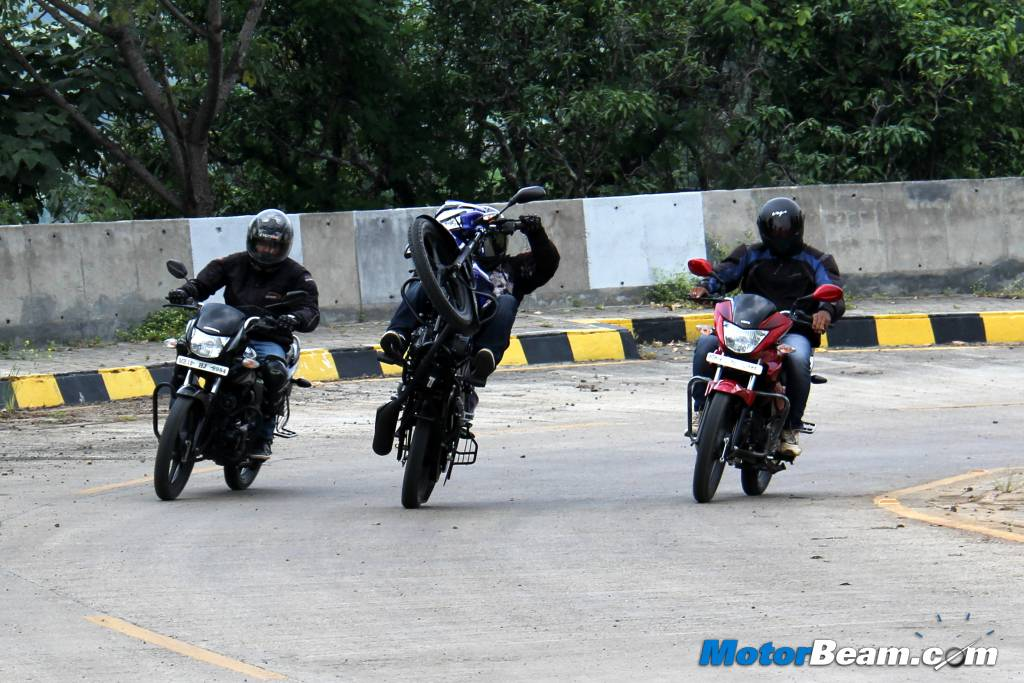helmet: (244, 213, 297, 268), (753, 197, 806, 252)
